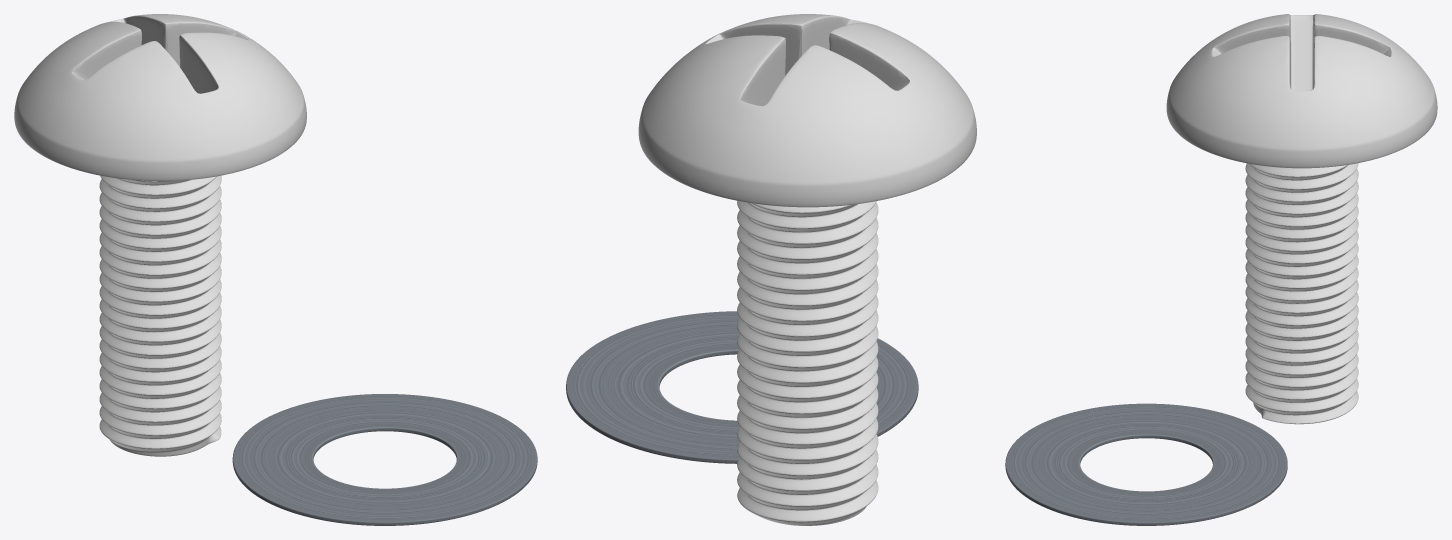
File: screw_and_flat_washer.glb
3 renders of one model, left to right at view 1: azimuth 30°, elevation 25°; view 2: azimuth 150°, elevation 25°; view 3: azimuth 270°, elevation 25°, orthographic. The views are drawn at different scales.
Visible parts, largest first — view 1: Vis_0, rondelle_1; view 2: Vis_0, rondelle_1; view 3: Vis_0, rondelle_1.
Part boxes in pixels (bbox=[...]): Vis_0: bbox=[14, 14, 306, 456]; rondelle_1: bbox=[232, 394, 537, 525]; Vis_0: bbox=[638, 14, 976, 525]; rondelle_1: bbox=[566, 311, 918, 463]; Vis_0: bbox=[1166, 14, 1437, 424]; rondelle_1: bbox=[1005, 403, 1287, 525].
Size of what is drawn, in the model's own units: 3.13 by 3.02 by 3.17.
Materials: 2 (1 with a texture image).
